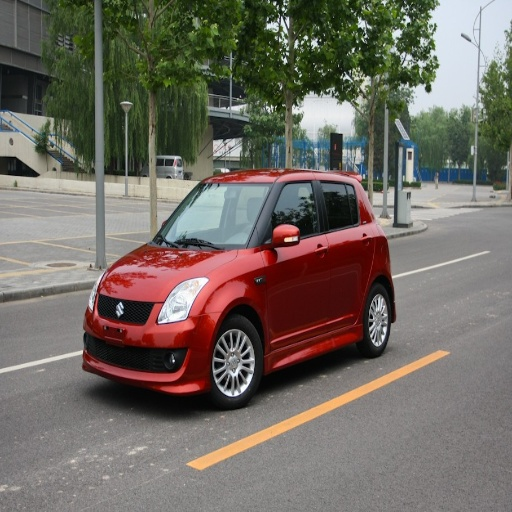front_bumper: (83, 293, 216, 394)
front_glass: (153, 184, 271, 250)
front_left_door: (264, 178, 328, 346)
